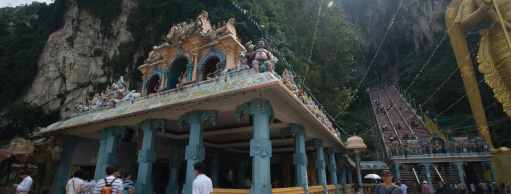Hindu Temple: (41, 19, 325, 155)
